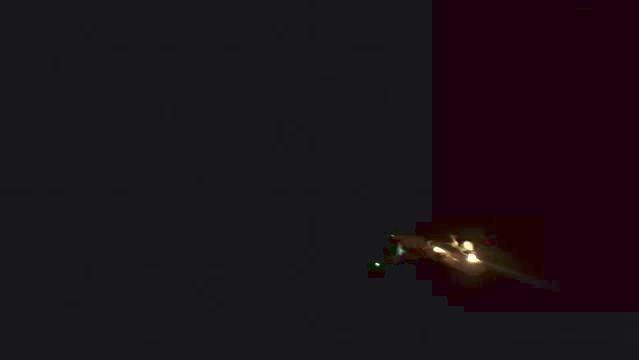Plane: (311, 211, 542, 288)
